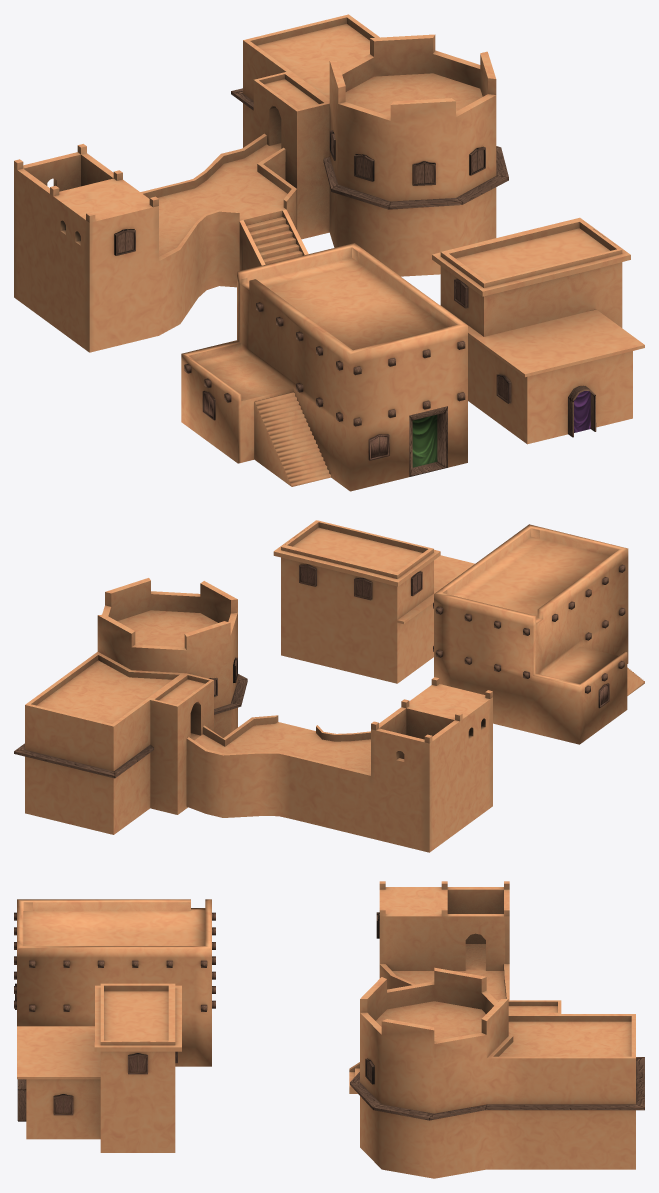
The picture shows the model from 3 angles, top to bottom: view 1: azimuth 30°, elevation 25°; view 2: azimuth 150°, elevation 25°; view 3: azimuth 270°, elevation 25°; orthographic projection. The views are drawn at different scales.
Visible parts, largest first — view 1: casa02_2, casa01_5, casa03_0; view 2: casa02_2, casa01_5, casa03_0; view 3: casa02_2, casa03_0, casa01_5.
Part boxes in pixels (x1,y1,x2,y2): casa02_2: (14, 14, 508, 352); casa01_5: (181, 243, 467, 491); casa03_0: (432, 217, 644, 444); casa02_2: (14, 578, 492, 852); casa01_5: (433, 524, 644, 744); casa03_0: (273, 520, 474, 683); casa02_2: (349, 881, 644, 1178); casa03_0: (17, 983, 181, 1152); casa01_5: (14, 899, 215, 1066).
Size of the model in its own units: 20.12 by 7.41 by 28.4.
Materials: 2 (2 with a texture image).
